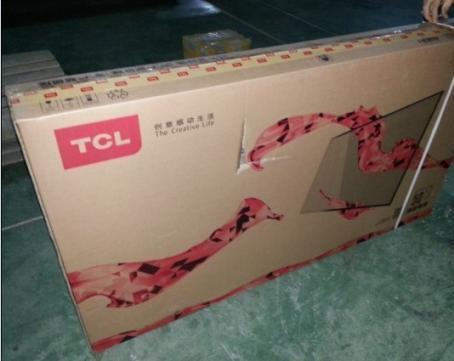cardboard: (2, 0, 453, 360)
